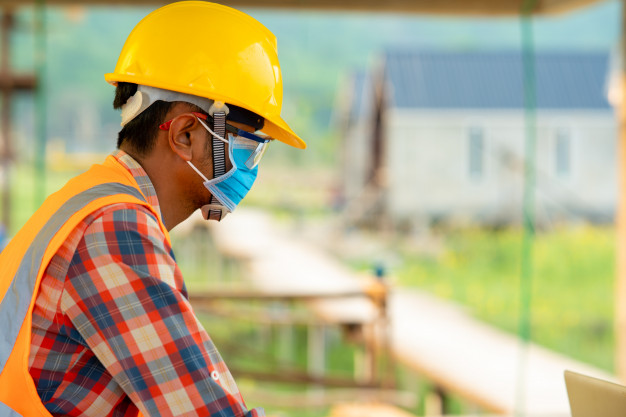With Helmet: (97, 1, 314, 227)
